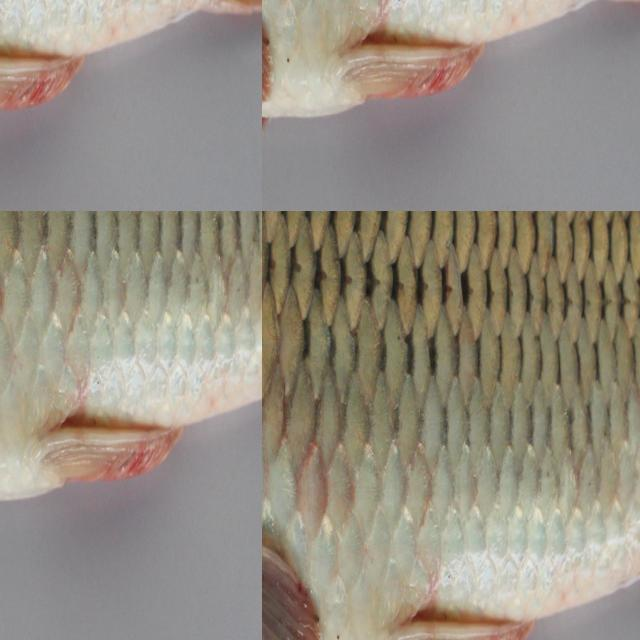fish: (262, 211, 640, 640), (0, 211, 262, 640)
